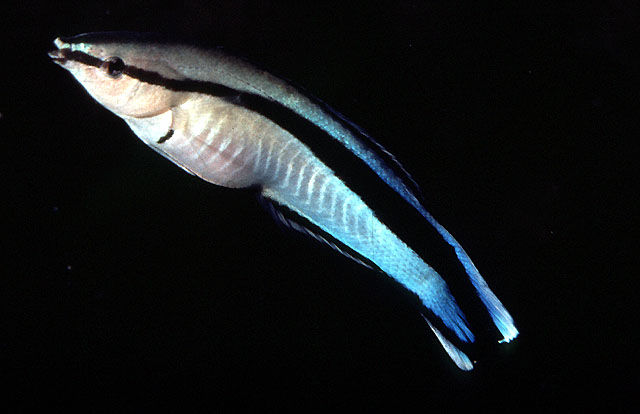fish: (49, 31, 519, 370)
